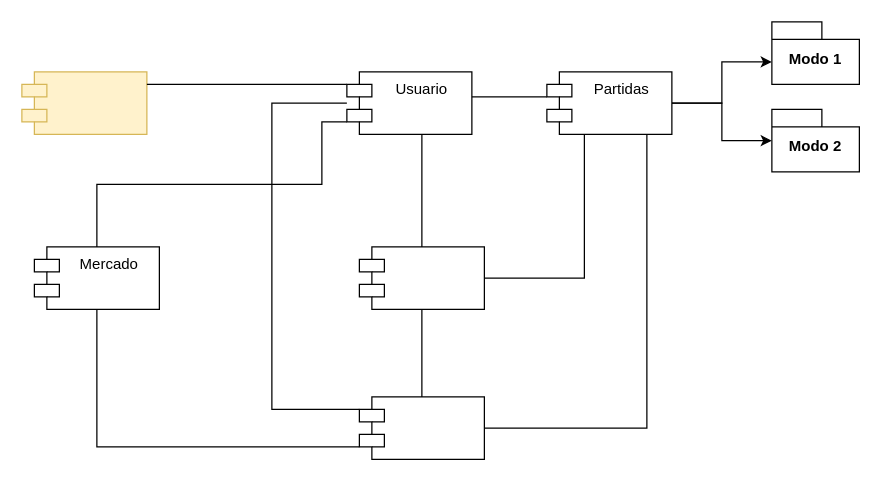
This 881x481 diagram has some shape labels left out. Here are the shapes that lost their labels. From the top down, the centre of each, then its label:
At pixel 84 102: "Autentificacion".
At pixel 421 277: "Mazos".
At pixel 421 427: "Cartas".
